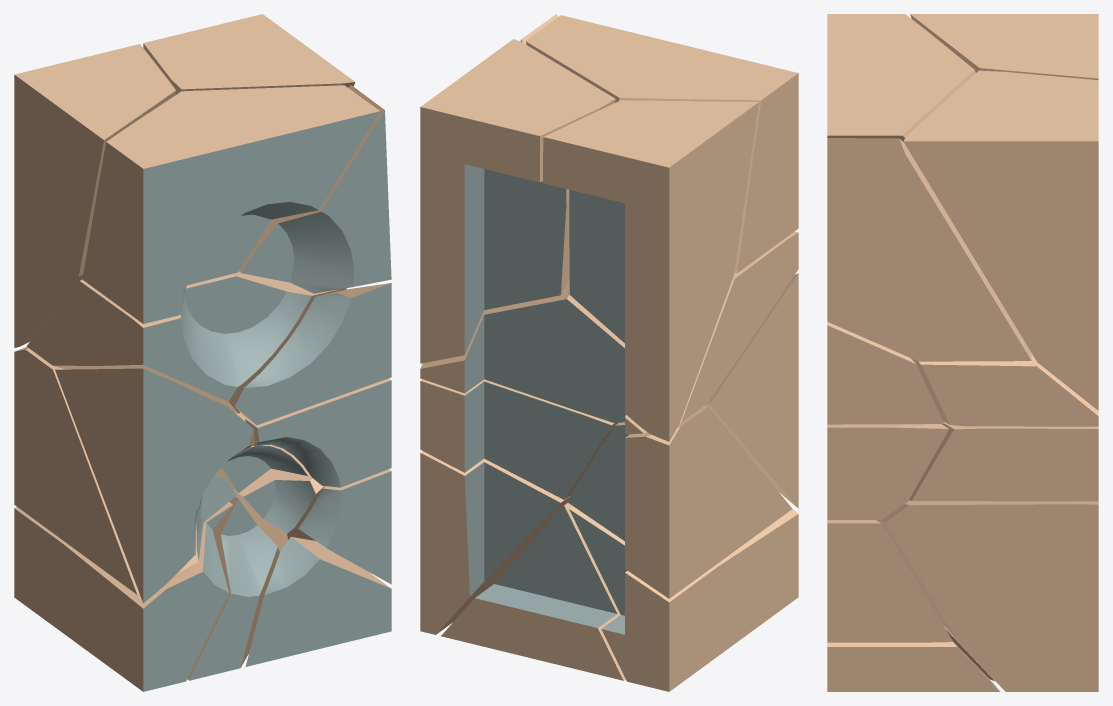
Rendered from speakersmall_broken.glb.
3 views of the same model, side by side, from view 1: azimuth 30°, elevation 25°; view 2: azimuth 150°, elevation 25°; view 3: azimuth 270°, elevation 25° (orthographic). The views are drawn at different scales.
Visible parts, largest first — view 1: speakerSmall(Clone)_cell.005, speakerSmall(Clone)_cell.010, speakerSmall(Clone)_cell.006, speakerSmall(Clone)_cell.009, speakerSmall(Clone)_cell.008, speakerSmall(Clone)_cell.013, speakerSmall(Clone)_cell.014, speakerSmall(Clone)_cell, speakerSmall(Clone)_cell.011, speakerSmall(Clone)_cell.004, speakerSmall(Clone)_cell.002, speakerSmall(Clone)_cell.001 (+3 smaller); view 2: speakerSmall(Clone)_cell.010, speakerSmall(Clone)_cell.004, speakerSmall(Clone)_cell.013, speakerSmall(Clone)_cell.009, speakerSmall(Clone)_cell.005, speakerSmall(Clone)_cell.008, speakerSmall(Clone)_cell.001, speakerSmall(Clone)_cell.007, speakerSmall(Clone)_cell.012, speakerSmall(Clone)_cell.006; view 3: speakerSmall(Clone)_cell.004, speakerSmall(Clone)_cell.007, speakerSmall(Clone)_cell.014, speakerSmall(Clone)_cell.005, speakerSmall(Clone)_cell.012, speakerSmall(Clone)_cell.003, speakerSmall(Clone)_cell.009, speakerSmall(Clone)_cell.010, speakerSmall(Clone)_cell.002, speakerSmall(Clone)_cell, speakerSmall(Clone)_cell.011.
Boxes of the visible parts, left/top/right/bottom form: speakerSmall(Clone)_cell.005: left=82, top=85, right=379, bottom=323; speakerSmall(Clone)_cell.010: left=14, top=44, right=175, bottom=347; speakerSmall(Clone)_cell.006: left=55, top=368, right=254, bottom=603; speakerSmall(Clone)_cell.009: left=26, top=271, right=346, bottom=413; speakerSmall(Clone)_cell.008: left=14, top=502, right=232, bottom=691; speakerSmall(Clone)_cell.013: left=14, top=347, right=236, bottom=594; speakerSmall(Clone)_cell.014: left=239, top=85, right=391, bottom=293; speakerSmall(Clone)_cell: left=235, top=283, right=391, bottom=425; speakerSmall(Clone)_cell.011: left=245, top=537, right=391, bottom=666; speakerSmall(Clone)_cell.004: left=143, top=14, right=355, bottom=95; speakerSmall(Clone)_cell.002: left=245, top=378, right=391, bottom=487; speakerSmall(Clone)_cell.001: left=187, top=496, right=279, bottom=680; speakerSmall(Clone)_cell.010: left=543, top=100, right=758, bottom=441; speakerSmall(Clone)_cell.004: left=420, top=39, right=615, bottom=363; speakerSmall(Clone)_cell.013: left=566, top=405, right=792, bottom=598; speakerSmall(Clone)_cell.009: left=420, top=231, right=798, bottom=434; speakerSmall(Clone)_cell.005: left=526, top=15, right=798, bottom=273; speakerSmall(Clone)_cell.008: left=569, top=506, right=798, bottom=691; speakerSmall(Clone)_cell.001: left=441, top=503, right=625, bottom=680; speakerSmall(Clone)_cell.007: left=420, top=451, right=569, bottom=634; speakerSmall(Clone)_cell.012: left=420, top=379, right=618, bottom=499; speakerSmall(Clone)_cell.006: left=705, top=273, right=798, bottom=508; speakerSmall(Clone)_cell.004: left=903, top=70, right=1098, bottom=410; speakerSmall(Clone)_cell.007: left=876, top=500, right=1098, bottom=691; speakerSmall(Clone)_cell.014: left=827, top=138, right=1031, bottom=361; speakerSmall(Clone)_cell.005: left=827, top=14, right=975, bottom=141; speakerSmall(Clone)_cell.012: left=909, top=421, right=1098, bottom=501; speakerSmall(Clone)_cell.003: left=827, top=520, right=953, bottom=642; speakerSmall(Clone)_cell.009: left=911, top=353, right=1098, bottom=426; speakerSmall(Clone)_cell.010: left=910, top=14, right=1098, bottom=80; speakerSmall(Clone)_cell.002: left=827, top=424, right=948, bottom=519; speakerSmall(Clone)_cell: left=827, top=322, right=943, bottom=424; speakerSmall(Clone)_cell.011: left=827, top=642, right=999, bottom=691.
Size of the model in its own units: 0.148 by 0.298 by 0.1332.
